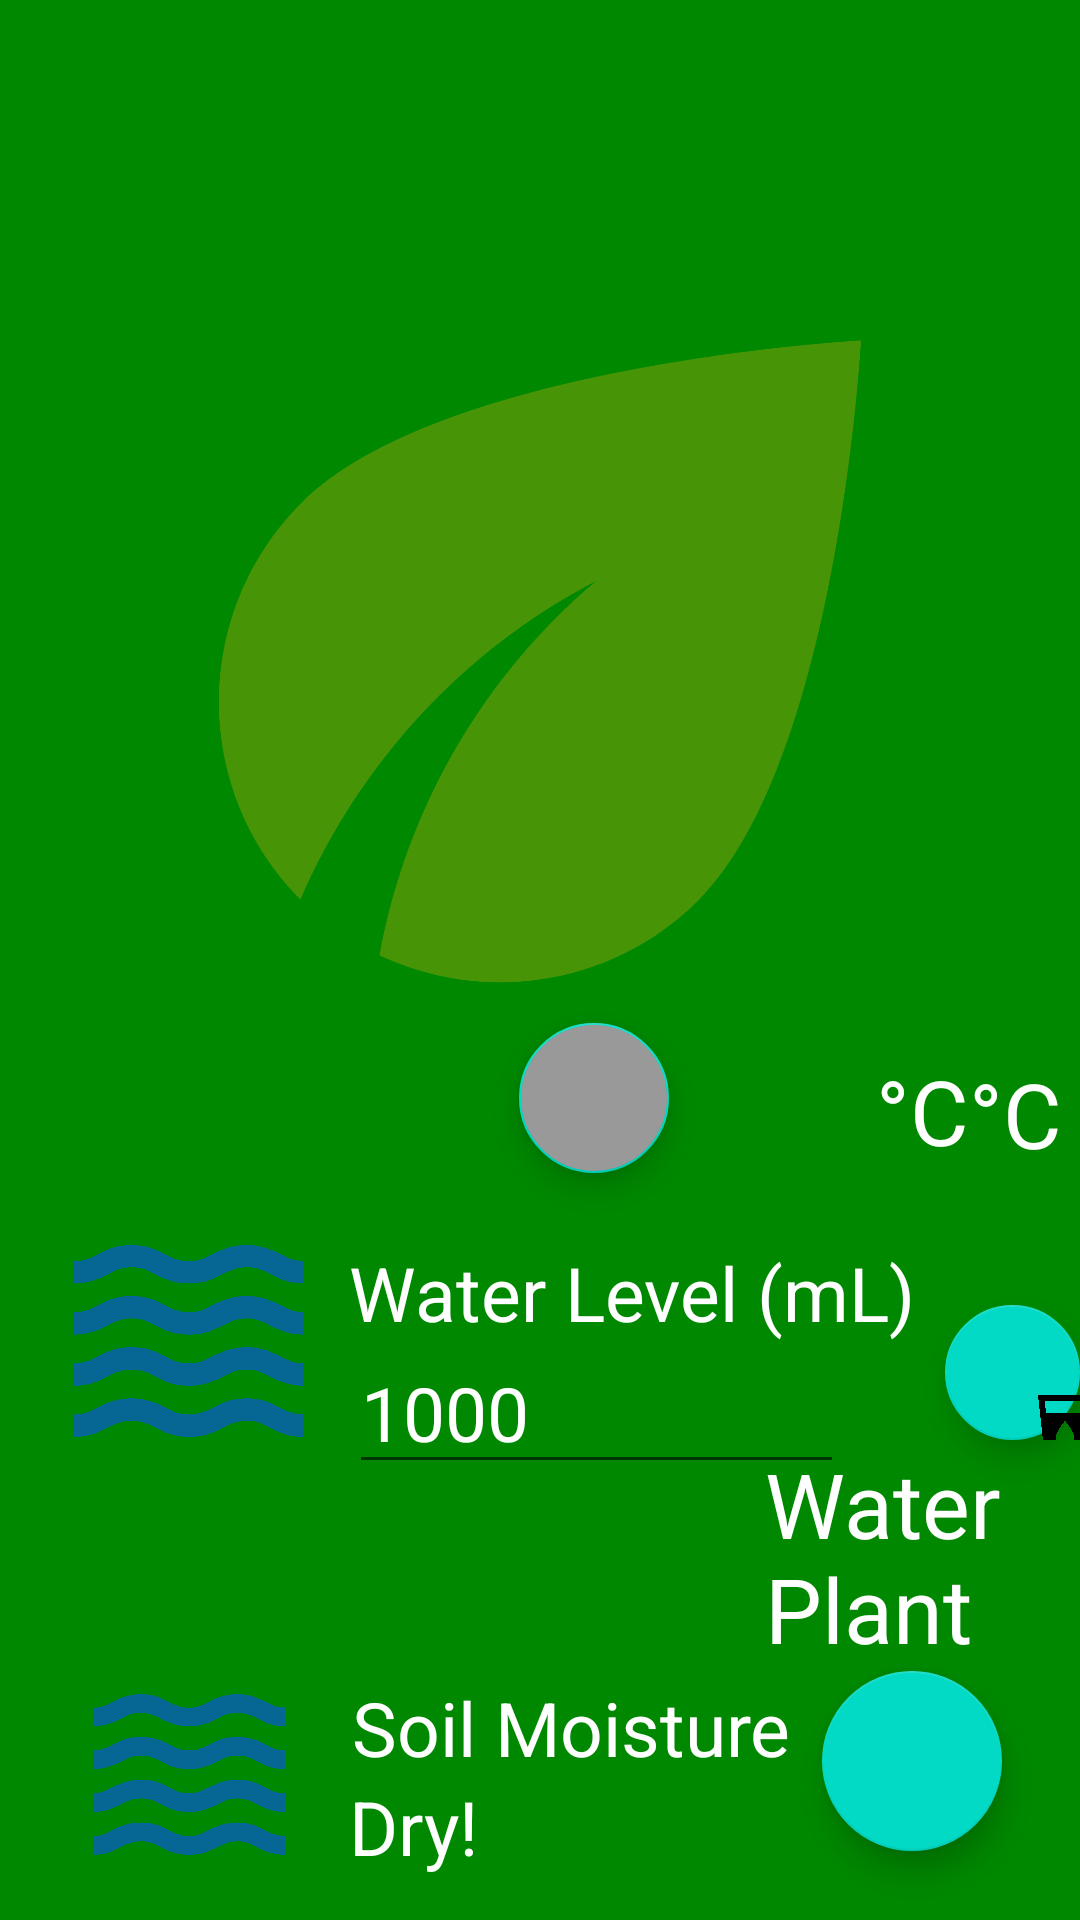

Point at icon controls on the screen. Image size 1080x1920, points as [x,y].
Amount of water remaining: [189,1341]
Detected moisture level: [189,1774]
